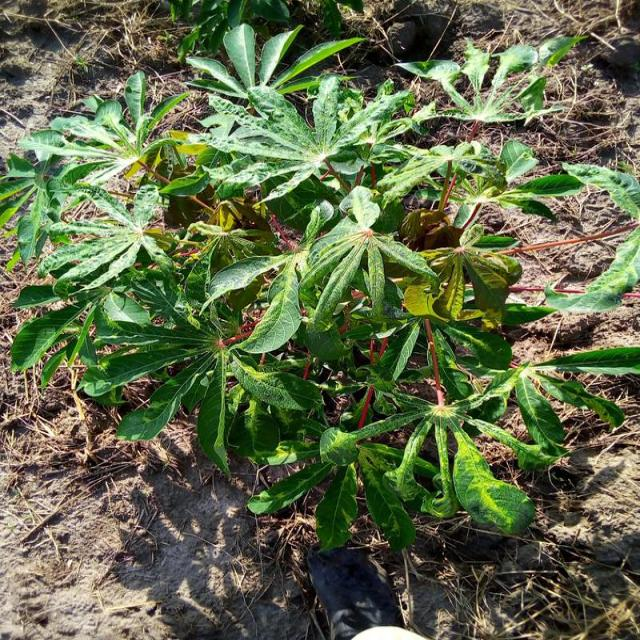cassava leaf: (2, 19, 638, 555)
